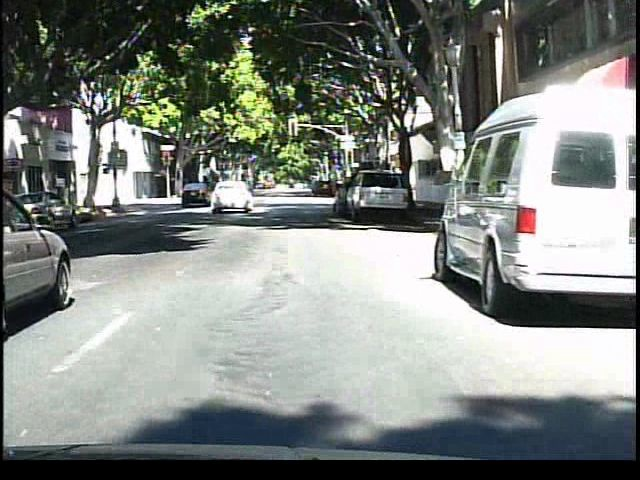person: (217, 171, 239, 208)
